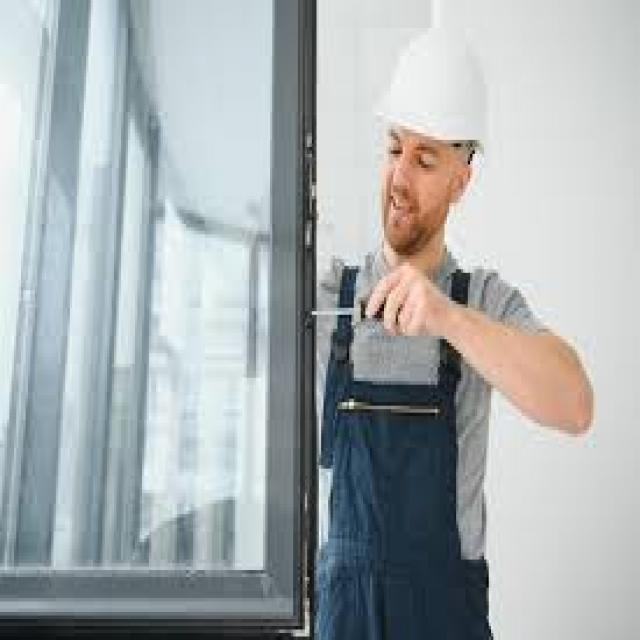screwdriver: (302, 292, 414, 327)
